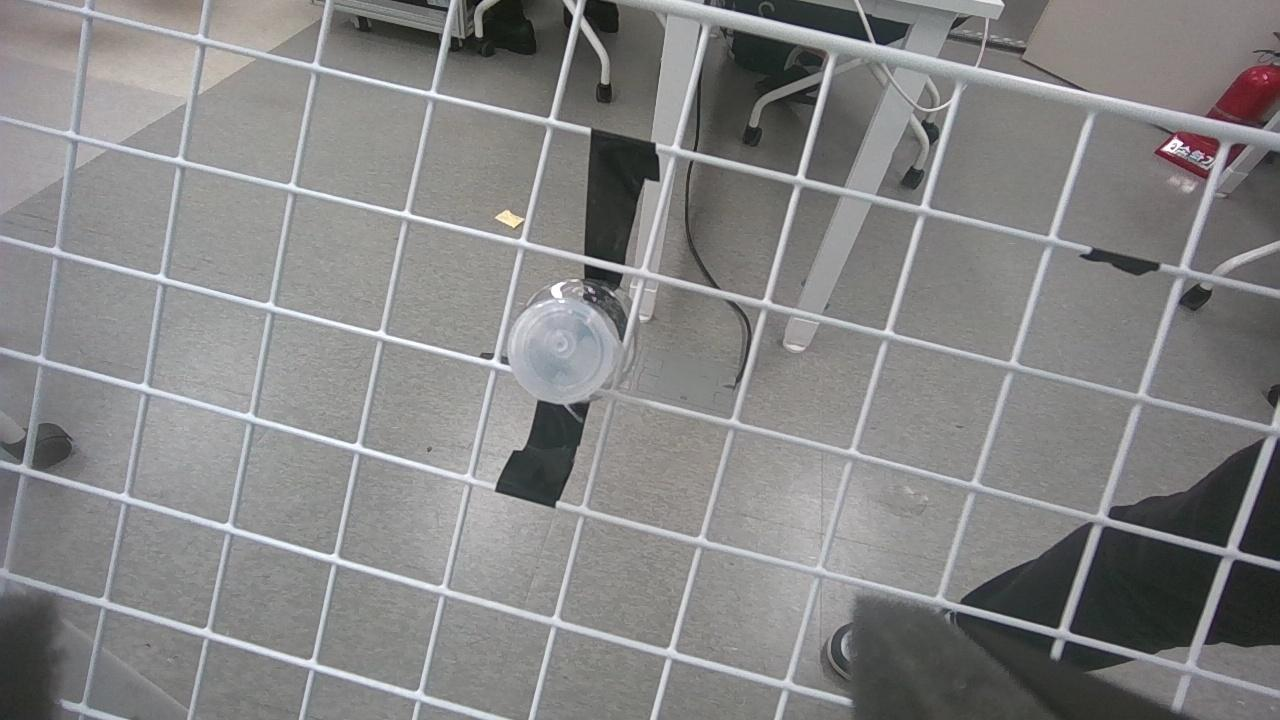Cap: (501, 295, 614, 410)
